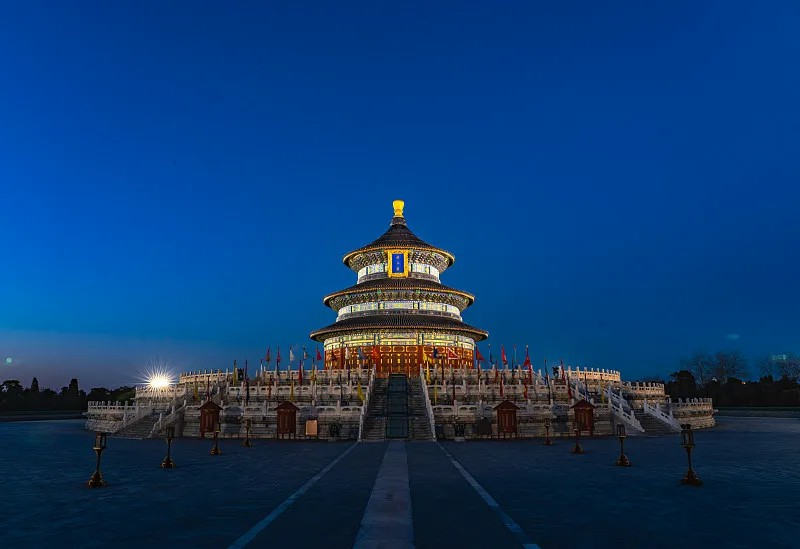Heaven: (309, 199, 490, 377)
